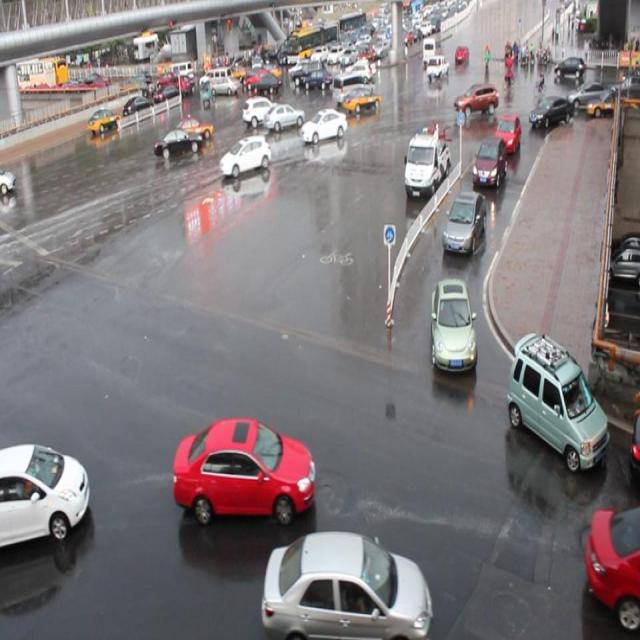bus: (402, 133, 450, 199)
car: (259, 526, 432, 640), (170, 416, 314, 524), (503, 329, 608, 469), (1, 441, 91, 544), (584, 505, 640, 629), (429, 277, 476, 370), (440, 190, 484, 253), (220, 135, 271, 177), (470, 136, 508, 186), (300, 108, 347, 143), (153, 127, 203, 159), (528, 96, 572, 132), (452, 81, 498, 115), (263, 101, 305, 131), (490, 112, 520, 153), (241, 94, 280, 125), (172, 115, 215, 143), (341, 86, 381, 115)
truck: (332, 71, 369, 103)
